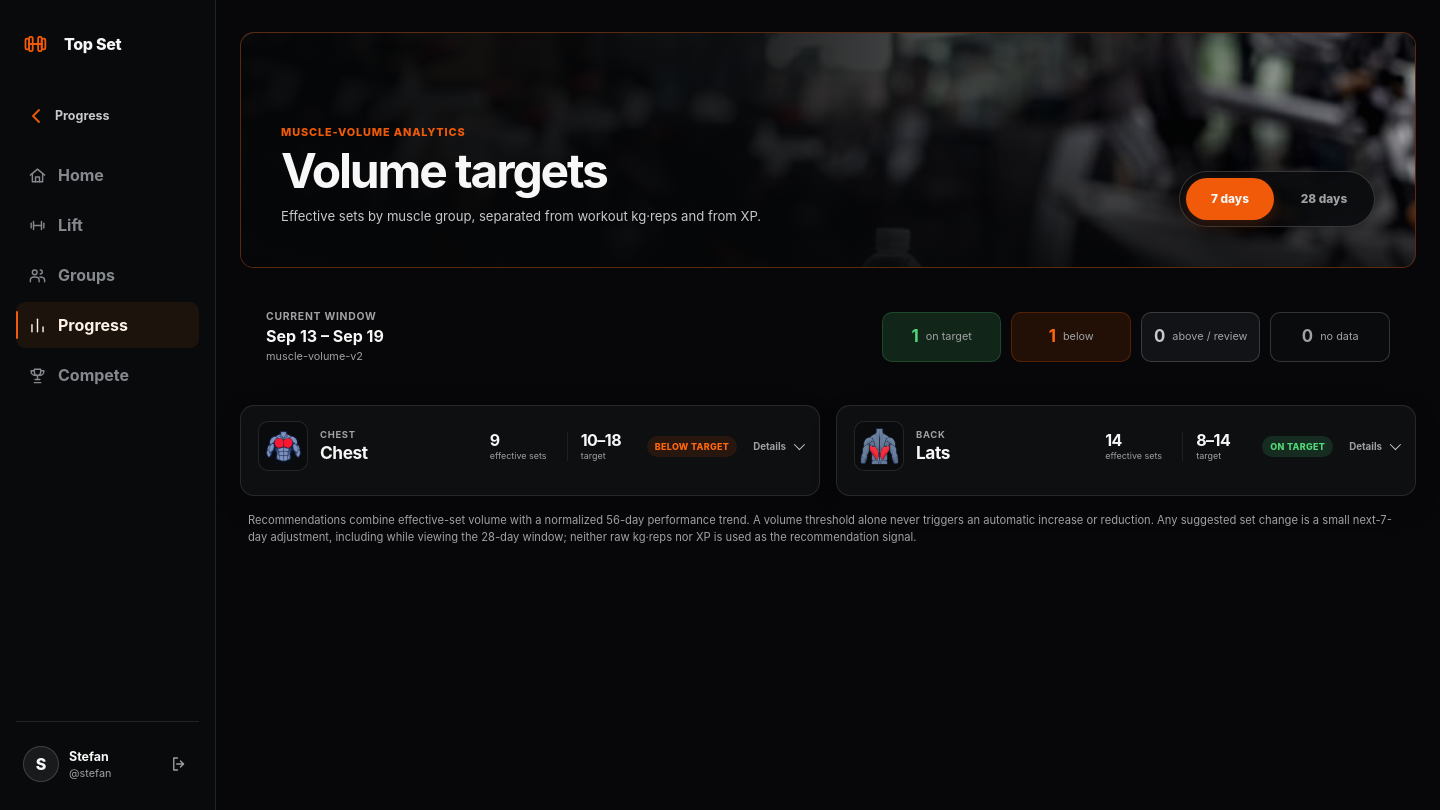
Scenario: TrainingVolumeScreen › uses a dedicated, icon-supported muscle-volume surface and switches windows
The width and height of the screenshot is (1440, 810).
Expected: the heading "Volume targets" is shown, [281, 141, 607, 200]
Expected: the heading "Chest" is shown, [320, 442, 368, 463]
Click the button "28 days": coordinates (1324, 199) [1280, 178, 1368, 220]
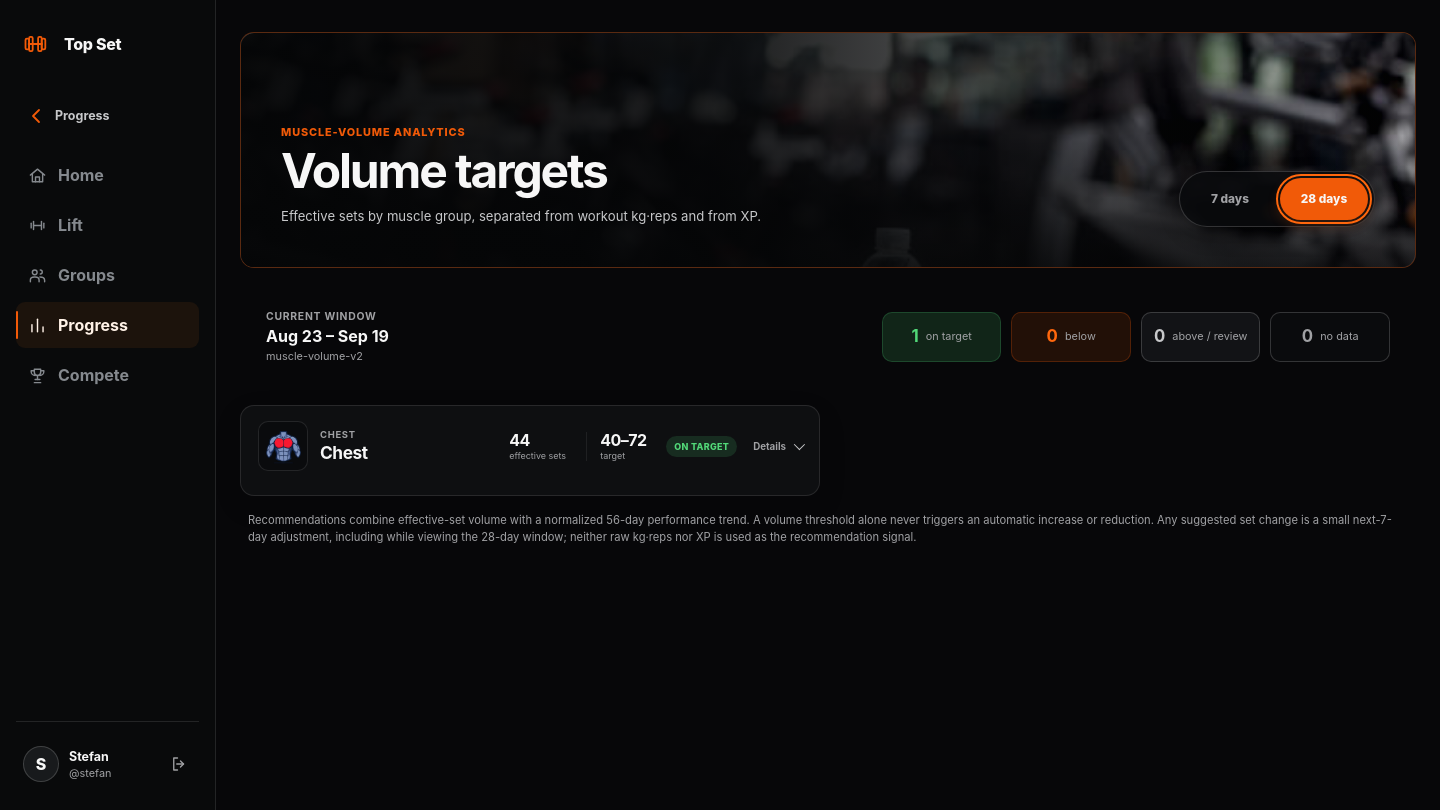
Expected: the heading "Chest" is shown, [320, 442, 368, 463]
Result: the heading "Lats" is gone
Result: the text "44" is shown at [509, 430, 530, 450]
